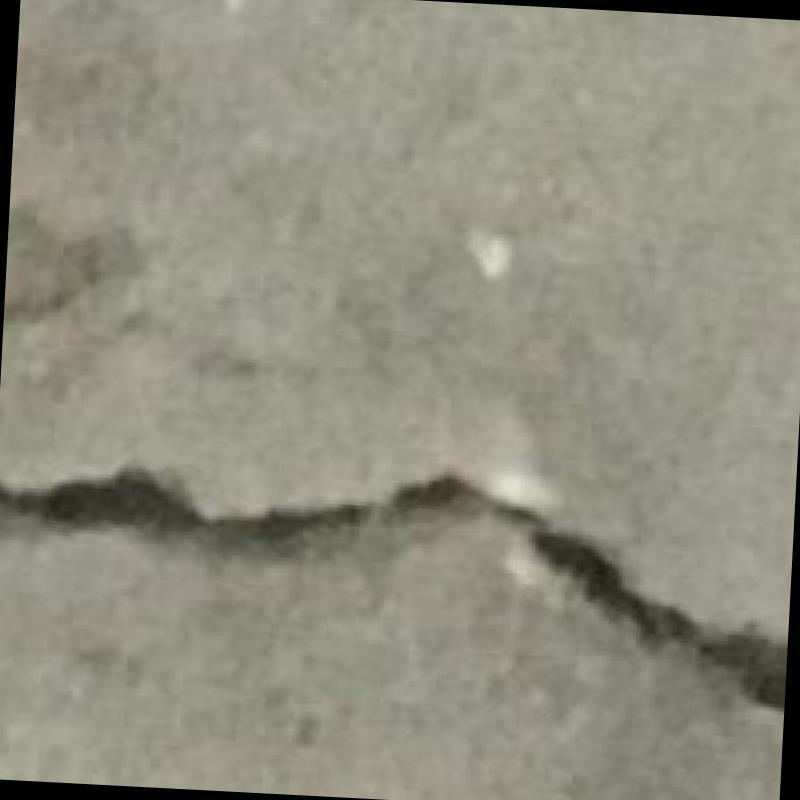pothole: (0, 468, 787, 710)
